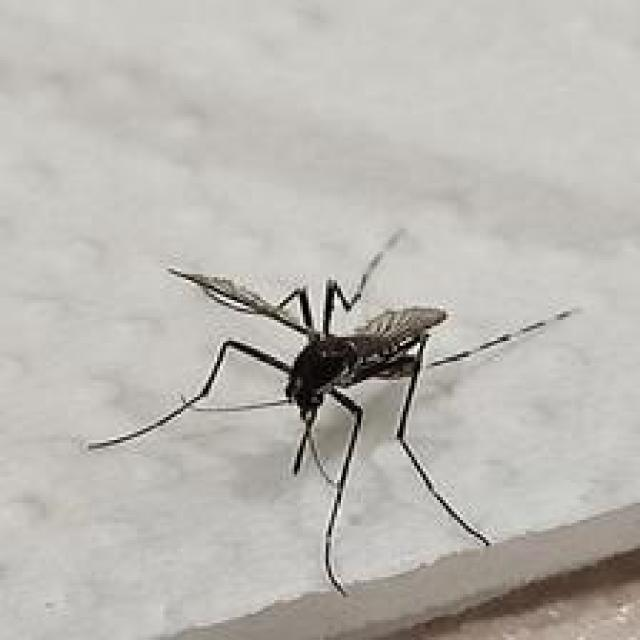Aedes albopictus: (84, 226, 579, 600)
